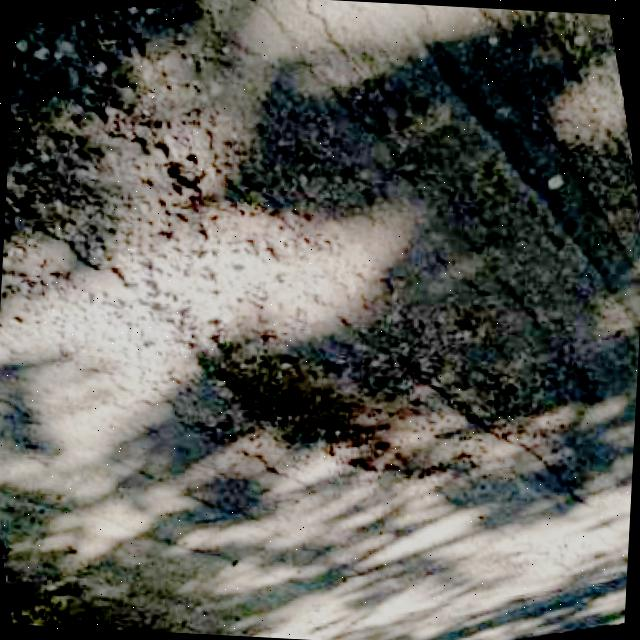pothole: (0, 50, 533, 497)
